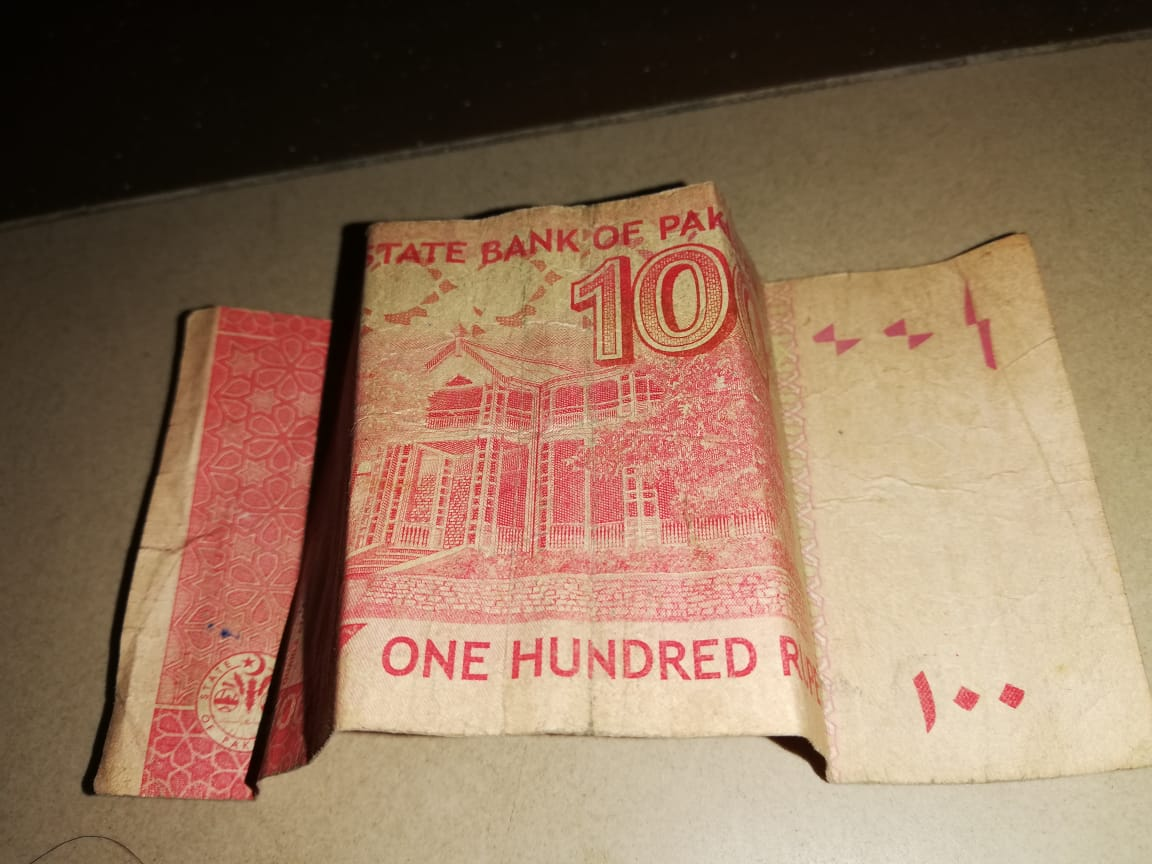100 rupee: (72, 184, 1152, 820)
